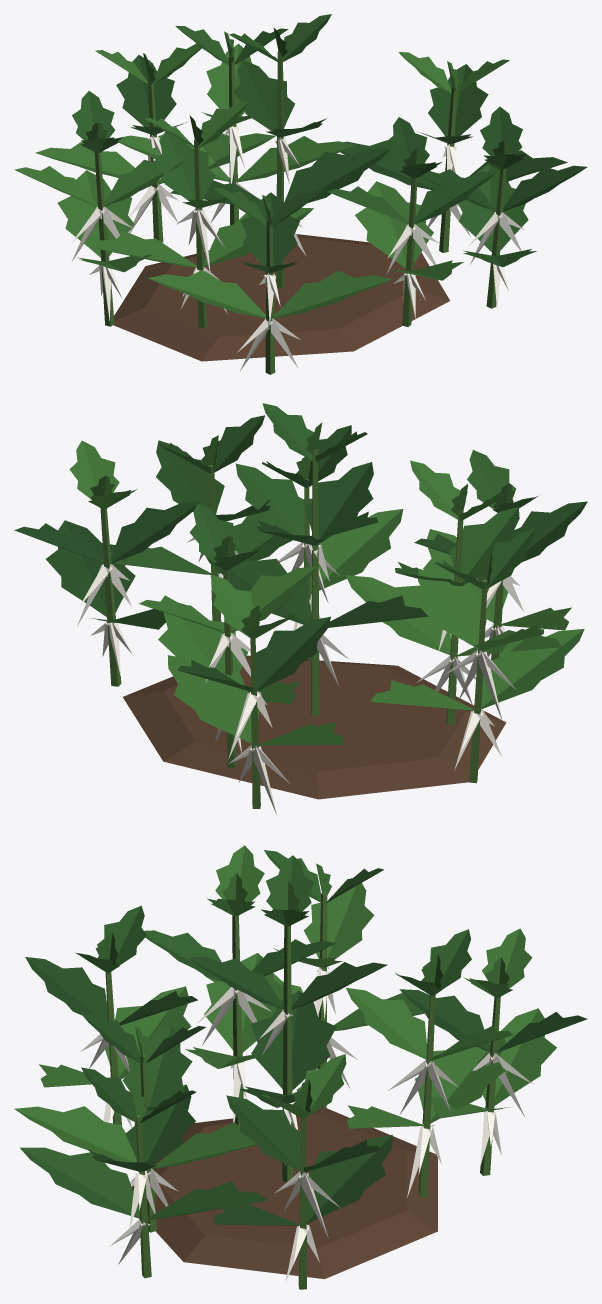
The model's file is nettle-patch.glb.
The picture shows the model from 3 angles, top to bottom: view 1: azimuth 30°, elevation 25°; view 2: azimuth 150°, elevation 25°; view 3: azimuth 270°, elevation 25°; orthographic projection. The views are drawn at different scales.
Visible parts, largest first — view 1: nettle-patch; view 2: nettle-patch; view 3: nettle-patch.
Boxes of the visible parts, bbox=[...] form: nettle-patch: bbox=[14, 14, 587, 374]; nettle-patch: bbox=[14, 403, 587, 814]; nettle-patch: bbox=[14, 845, 587, 1289].
Size of the model in its own units: 1.17 by 0.6256 by 1.05.
